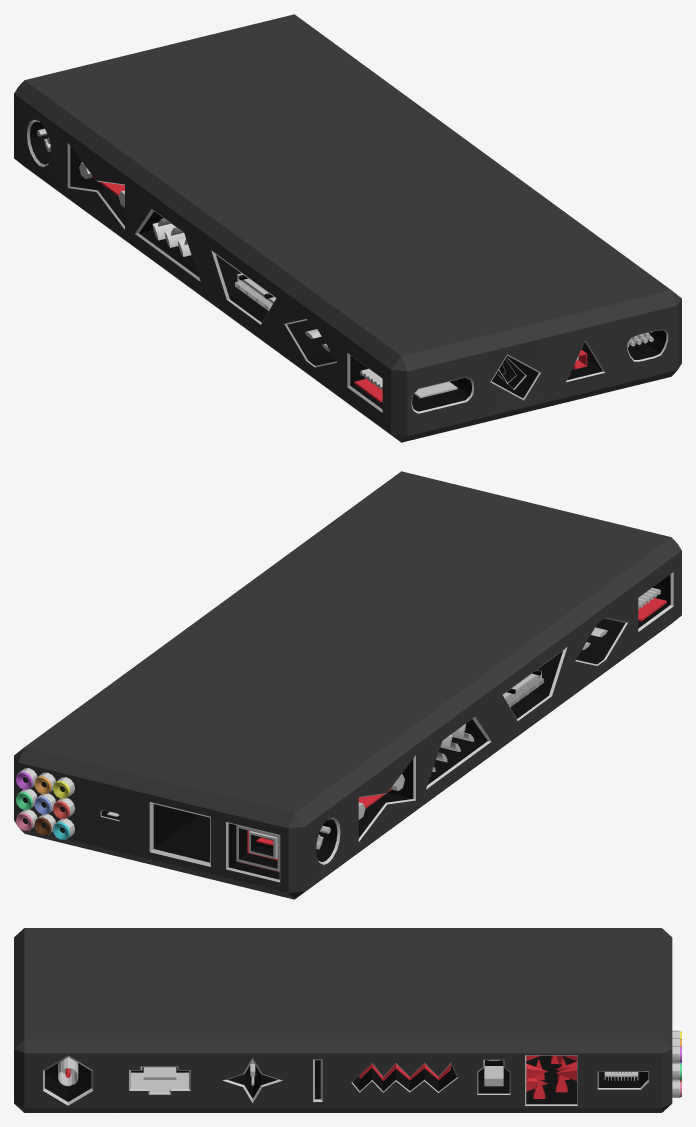
Rendered from mdlDock.fbx.
3 views of the same model, one above another, from view 1: azimuth 30°, elevation 25°; view 2: azimuth 150°, elevation 25°; view 3: azimuth 270°, elevation 25° (orthographic). The views are drawn at different scales.
Visible parts, largest first — view 1: Cube; view 2: Cube; view 3: Cube.
Part boxes in pixels (x1,y1,x2,y2): Cube: (14, 14, 681, 442); Cube: (14, 471, 681, 899); Cube: (14, 928, 681, 1112).
Size of the model in its own units: 0.2623 by 0.0745 by 0.6165.
